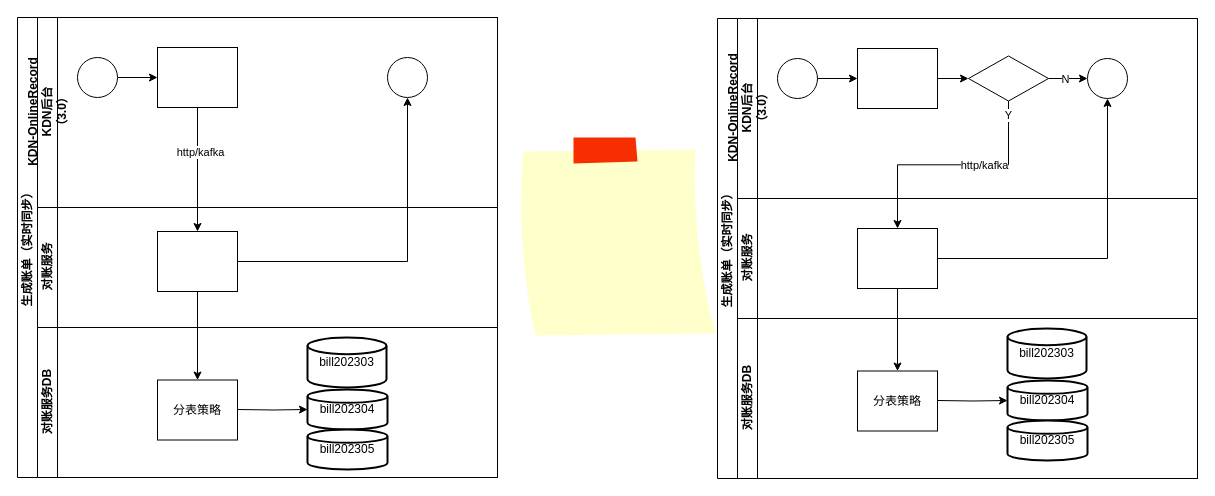
This 1215x496 diagram has some shape labels left out. The centre of each missing label's shape, as x and y in pixels:
删除记账单: pixel 897 258
取消: pixel 897 78
增量同步： 获取已签收/揽收后取消账单数据: pixel 617 237
已签收: pixel 197 77
揽件后取消: pixel 1008 78
生成记账单: pixel 197 261
